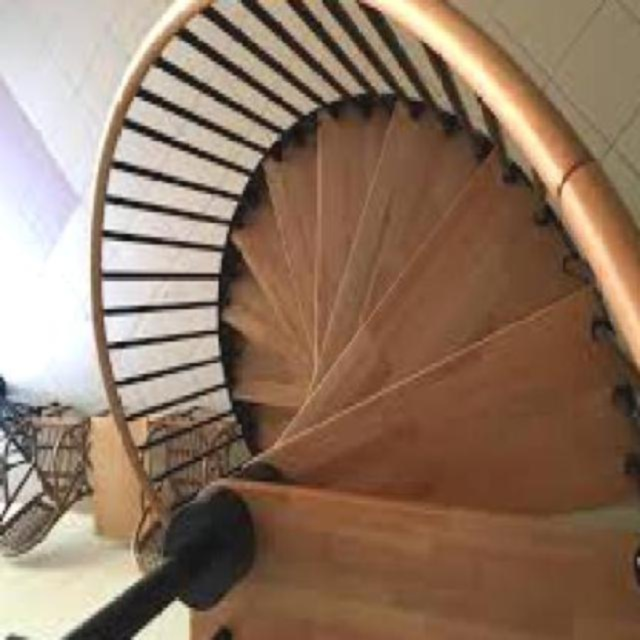stair: (35, 0, 638, 637)
